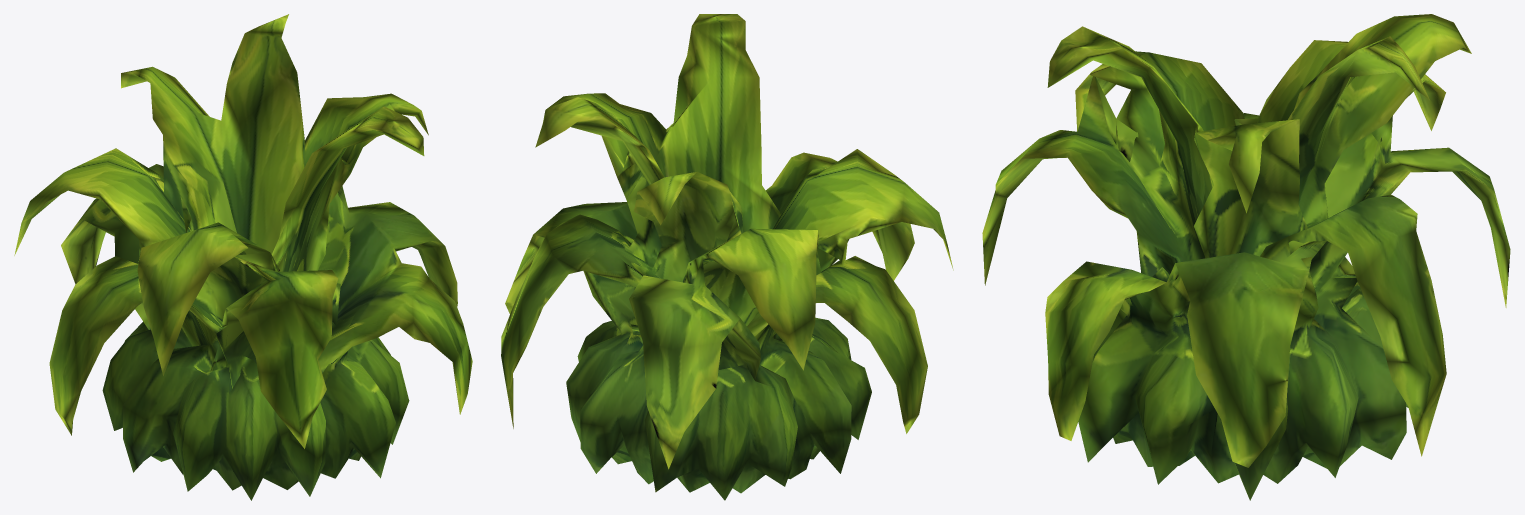
The model's file is arbusto_3.glb.
The picture shows the model from 3 angles, left to right: view 1: azimuth 30°, elevation 25°; view 2: azimuth 150°, elevation 25°; view 3: azimuth 270°, elevation 25°; orthographic projection. The views are drawn at different scales.
Visible parts, largest first — view 1: arbusto_3; view 2: arbusto_3; view 3: arbusto_3.
Boxes of the visible parts, left/top/right/bottom form: arbusto_3: left=14, top=14, right=472, bottom=500; arbusto_3: left=501, top=14, right=953, bottom=500; arbusto_3: left=982, top=14, right=1510, bottom=500.
Bounding box in the file's own units: 1.8 × 1.65 × 1.8.
Materials: 1 (1 with a texture image).
